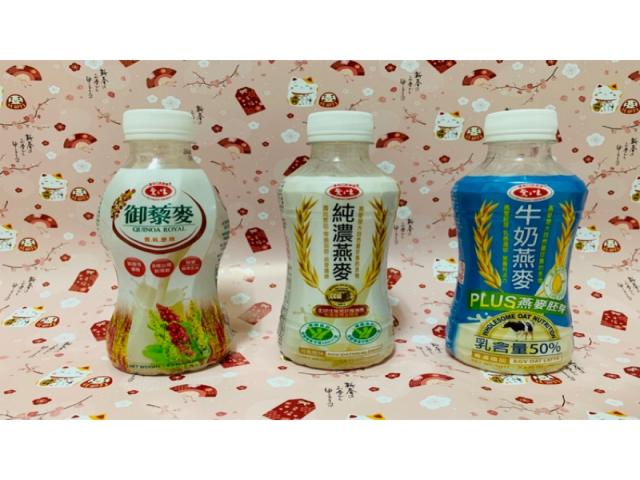bottle: (446, 109, 588, 374), (96, 109, 231, 375), (278, 112, 400, 369)
